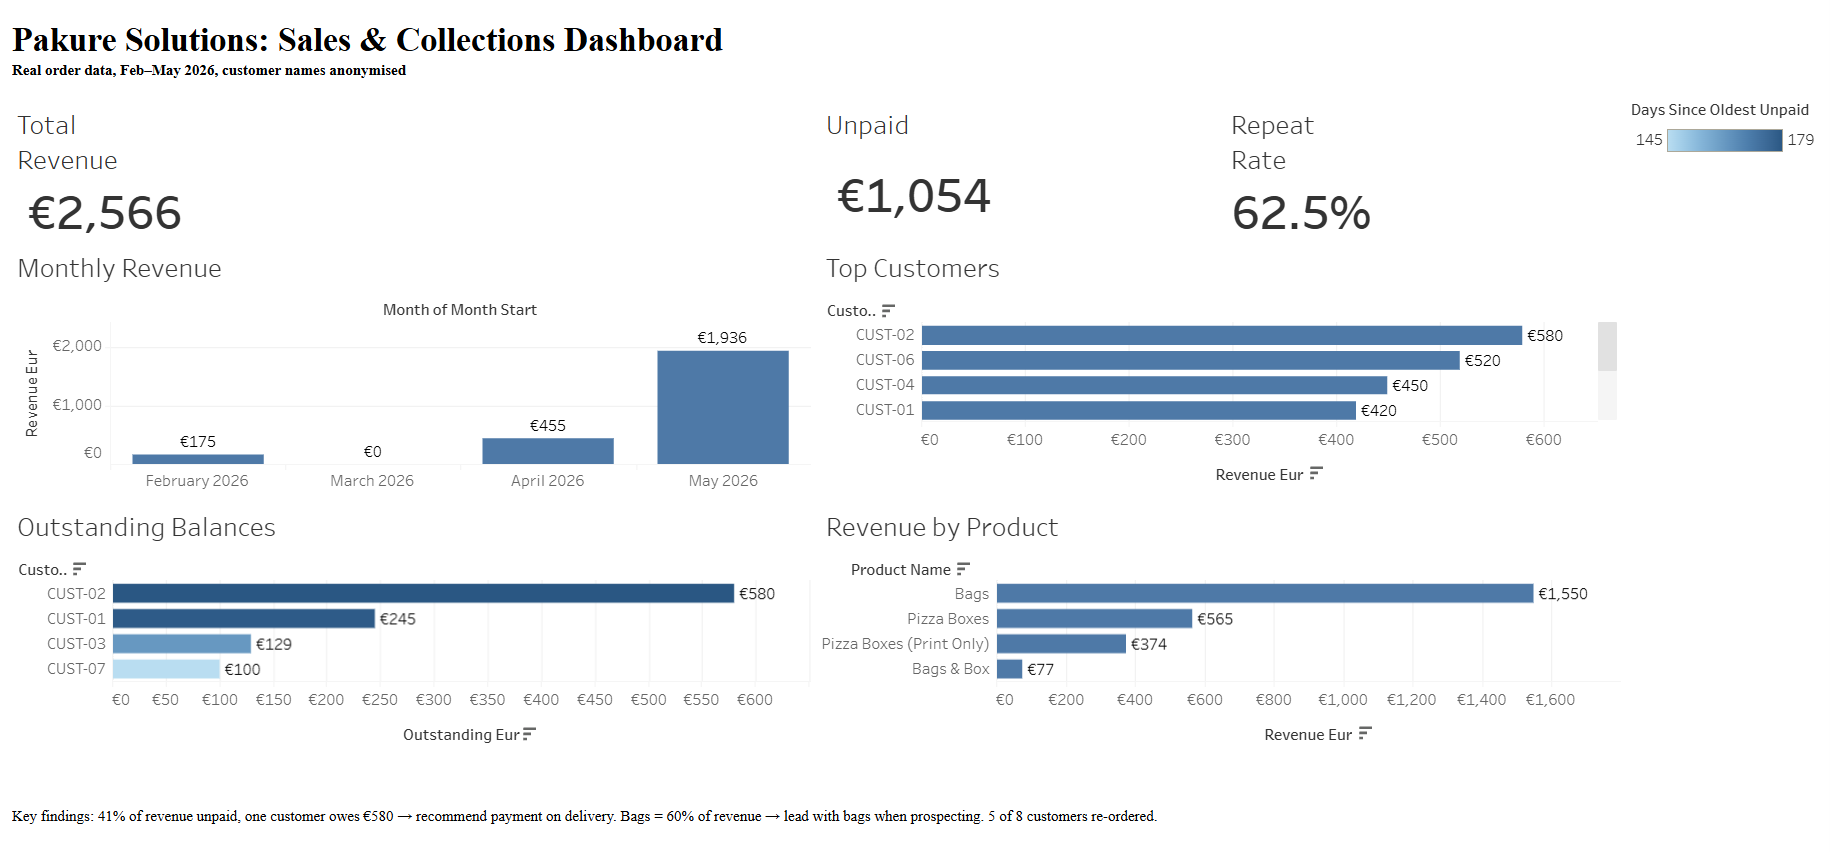

Layout of this report page (visuals, bound fields, positions):
{"tool":"tableau","page":{"name":"Pakure Dashboard","canvas":[1000,1000],"units":"permille","ordinal":0},"visuals":[{"type":"text","box":[4.8,8.2,990.3,103.3]},{"type":"worksheet","title":"Total Revenue","mark":"Automatic","box":[4.8,111.6,446.9,165.9]},{"type":"worksheet","title":"Unpaid","mark":"Automatic","box":[451.7,111.6,223.5,165.9]},{"type":"worksheet","title":"Repeat Rate","mark":"Automatic","box":[675.2,111.6,223.4,165.9]},{"type":"legend","title":"Outstanding Balances","param":"[federated.0nj4cpc1a1trhg19azvvk1f2hohv].[sum:days_since_oldest_unpaid:qk]","box":[898.6,111.6,96.6,75.2]},{"type":"worksheet","title":"Monthly Revenue","mark":"Bar","rows":["revenue_eur"],"cols":["month_start"],"box":[4.8,277.4,446.9,297.7]},{"type":"worksheet","title":"Top Customers","mark":"Automatic","rows":["customer_code"],"cols":["revenue_eur"],"box":[451.7,277.4,446.9,297.7]},{"type":"worksheet","title":"Outstanding Balances","mark":"Automatic","rows":["customer_code"],"cols":["outstanding_eur"],"box":[4.8,575.2,446.9,316.7]},{"type":"worksheet","title":"Revenue by Product","mark":"Automatic","rows":["product_name"],"cols":["revenue_eur"],"box":[451.7,575.2,446.9,316.7]},{"type":"text","box":[4.8,891.9,990.3,99.9]}]}

Visuals, with their boxes on the dashboard's canvas, which has no fixed pixel size, in thousandths of its width and height (x1, y1, x2, y2). These are canvas units, not pixel positions in the 1830x852 screenshot, which may show the page scaled, cropped or inside an application window:
text: bbox=[5, 8, 995, 112]
"Total Revenue" worksheet: bbox=[5, 112, 452, 278]
"Unpaid" worksheet: bbox=[452, 112, 675, 278]
"Repeat Rate" worksheet: bbox=[675, 112, 899, 278]
"Outstanding Balances" legend: bbox=[899, 112, 995, 187]
"Monthly Revenue" worksheet (Bar marks): bbox=[5, 277, 452, 575]
"Top Customers" worksheet: bbox=[452, 277, 899, 575]
"Outstanding Balances" worksheet: bbox=[5, 575, 452, 892]
"Revenue by Product" worksheet: bbox=[452, 575, 899, 892]
text: bbox=[5, 892, 995, 992]
